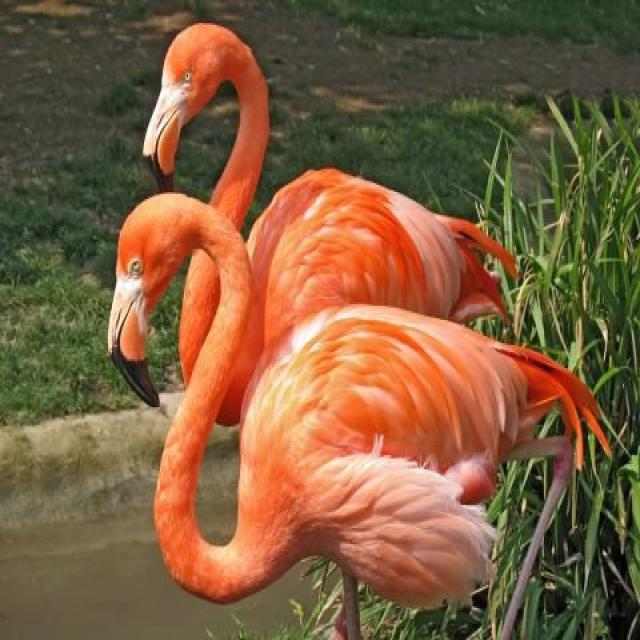Flamingo: (110, 192, 581, 604)
